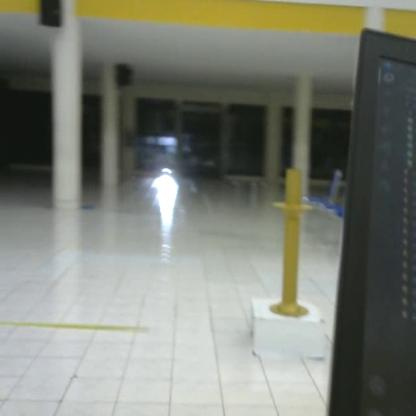pole: (271, 166, 318, 321)
